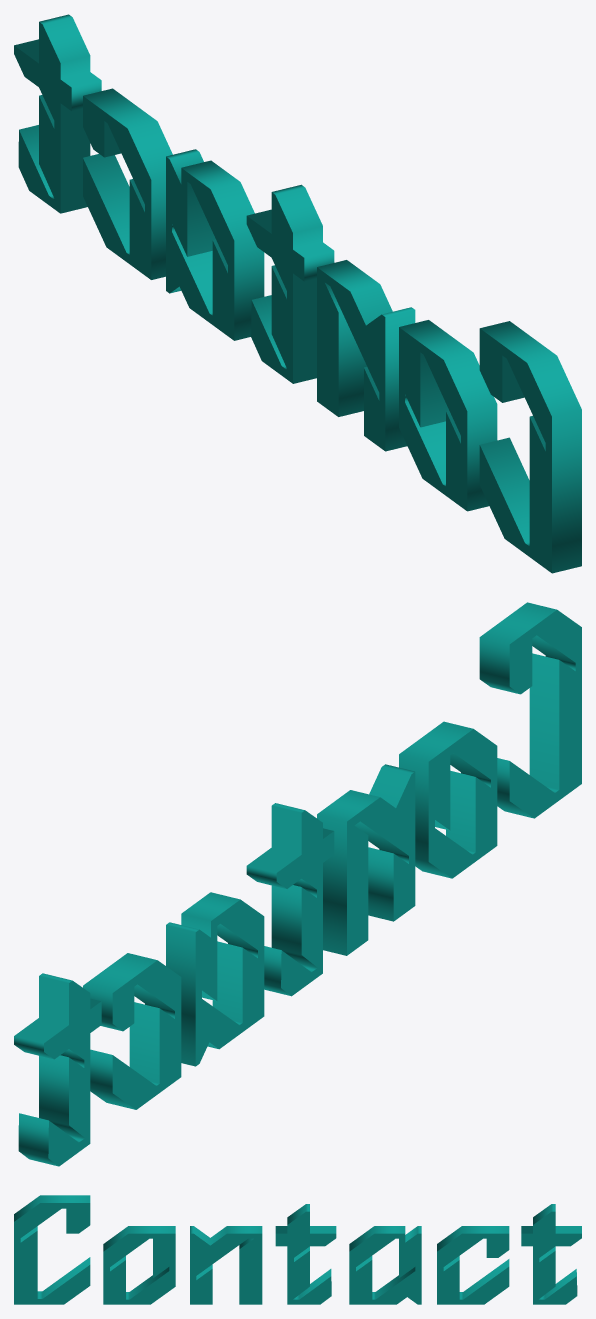
File: Contact.glb
The picture shows the model from 3 angles, top to bottom: view 1: azimuth 30°, elevation 25°; view 2: azimuth 150°, elevation 25°; view 3: azimuth 270°, elevation 25°; orthographic projection. The views are drawn at different scales.
Parts seen in each view (by area): view 1: Text; view 2: Text; view 3: Text.
Boxes of the visible parts, bbox=[...] form: Text: bbox=[14, 14, 581, 573]; Text: bbox=[14, 602, 581, 1166]; Text: bbox=[14, 1195, 581, 1304].
Bounding box in the file's own units: 0.1 × 0.6141 × 3.11.
